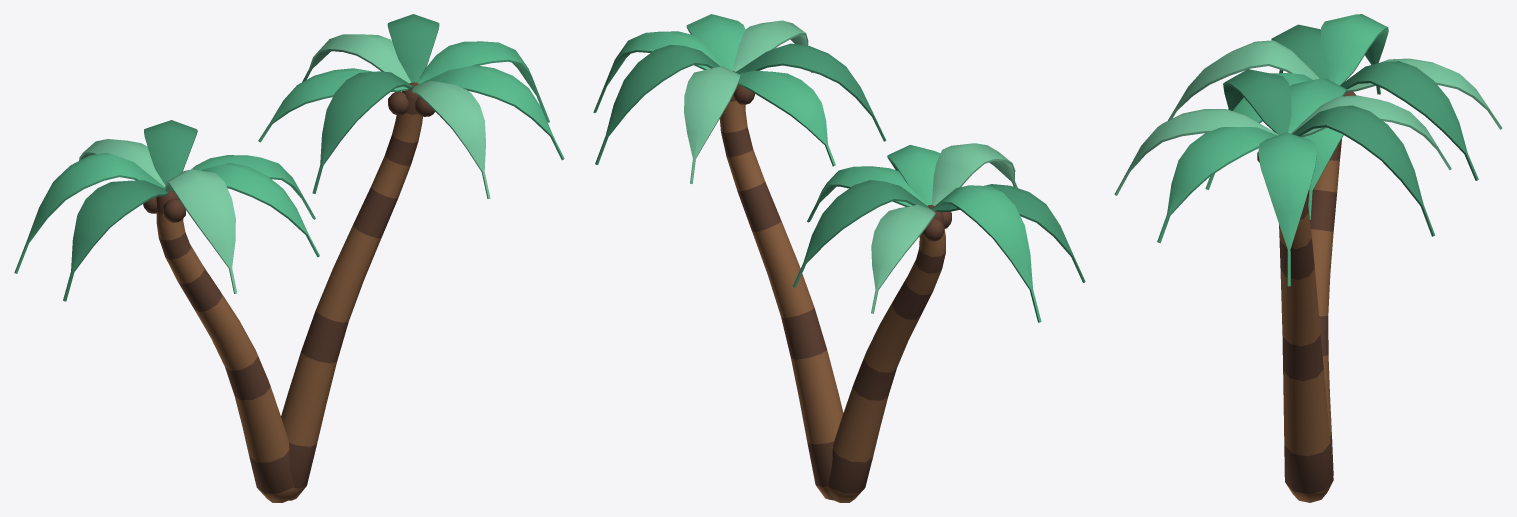
Rendered from W3_Palm_B.fbx.
3 views of the same model, side by side, from view 1: azimuth 30°, elevation 25°; view 2: azimuth 150°, elevation 25°; view 3: azimuth 270°, elevation 25° (orthographic). The views are drawn at different scales.
Visible parts, largest first — view 1: W3_Palm_B; view 2: W3_Palm_B; view 3: W3_Palm_B.
Boxes of the visible parts, x1,y1,x2,y2 form: W3_Palm_B: (14,14,564,502); W3_Palm_B: (593,14,1085,502); W3_Palm_B: (1114,14,1502,502).
Size of the model in its own units: 7.94 by 6.66 by 5.01.
